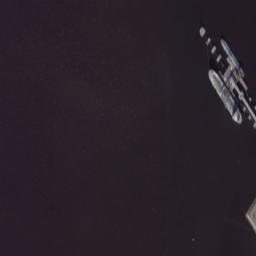boat: (207, 68, 242, 124), (219, 37, 244, 76), (192, 237, 193, 239)
